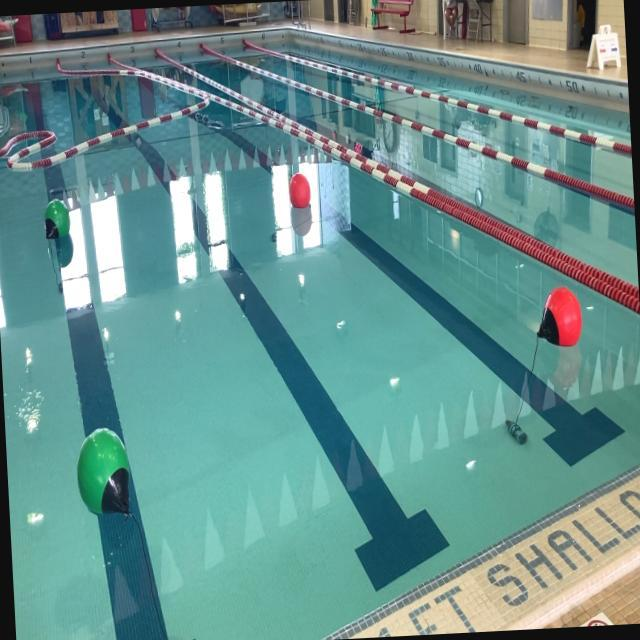buoy: (73, 424, 133, 520), (537, 286, 583, 346), (41, 198, 71, 248), (288, 172, 310, 210)
